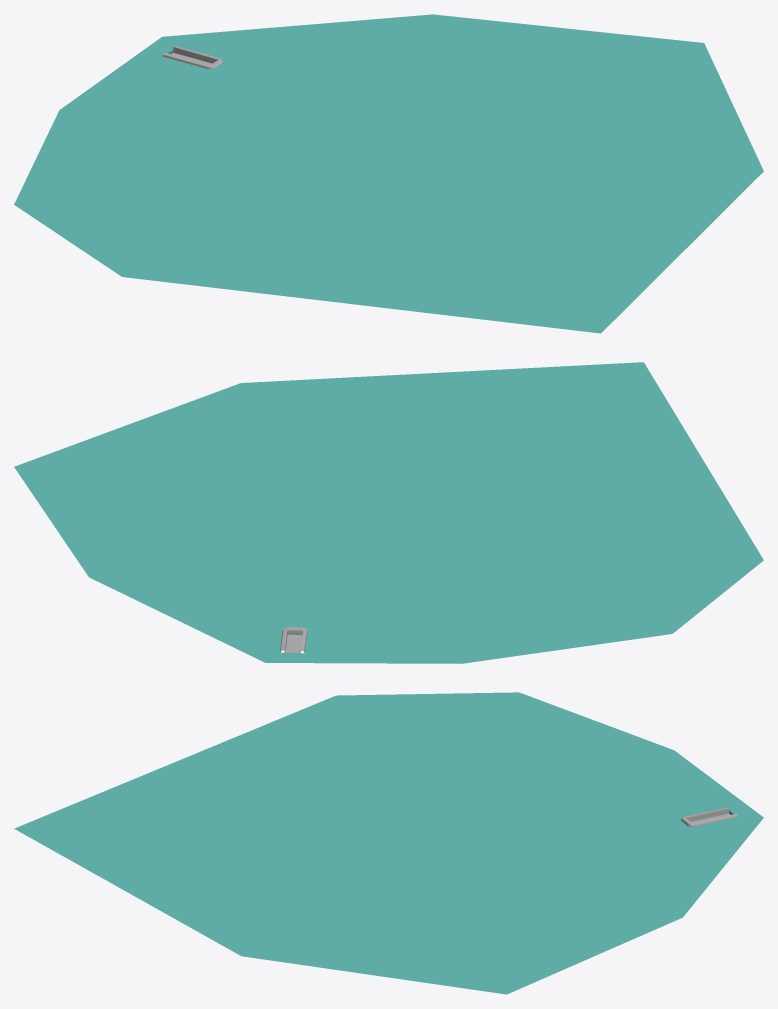
Rendered from water.fbx.
3 views of the same model, one above another, from view 1: azimuth 30°, elevation 25°; view 2: azimuth 150°, elevation 25°; view 3: azimuth 270°, elevation 25° (orthographic). The views are drawn at different scales.
Visible parts, largest first — view 1: mapa:pPlane2; view 2: mapa:pPlane2; view 3: mapa:pPlane2.
Part boxes in pixels (x1,y1,x2,y2): mapa:pPlane2: (14, 14, 763, 333); mapa:pPlane2: (14, 362, 763, 663); mapa:pPlane2: (14, 692, 763, 994).
Size of the model in its own units: 402 by 5.84 by 421.
